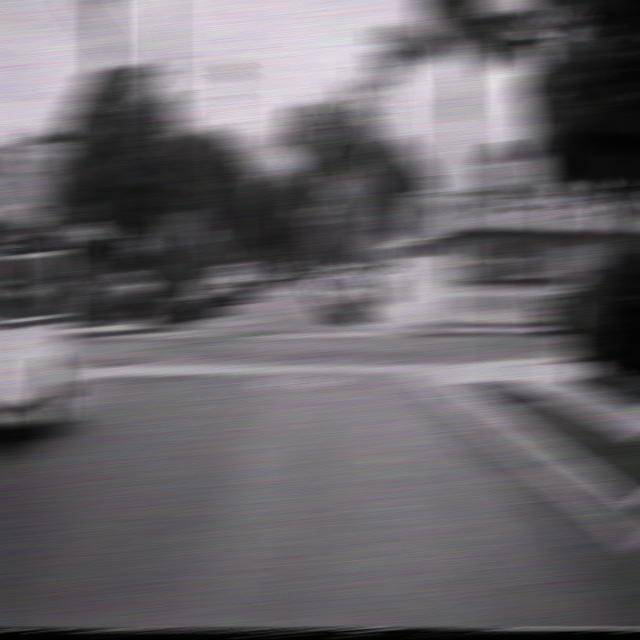stop: (477, 139, 525, 208)
